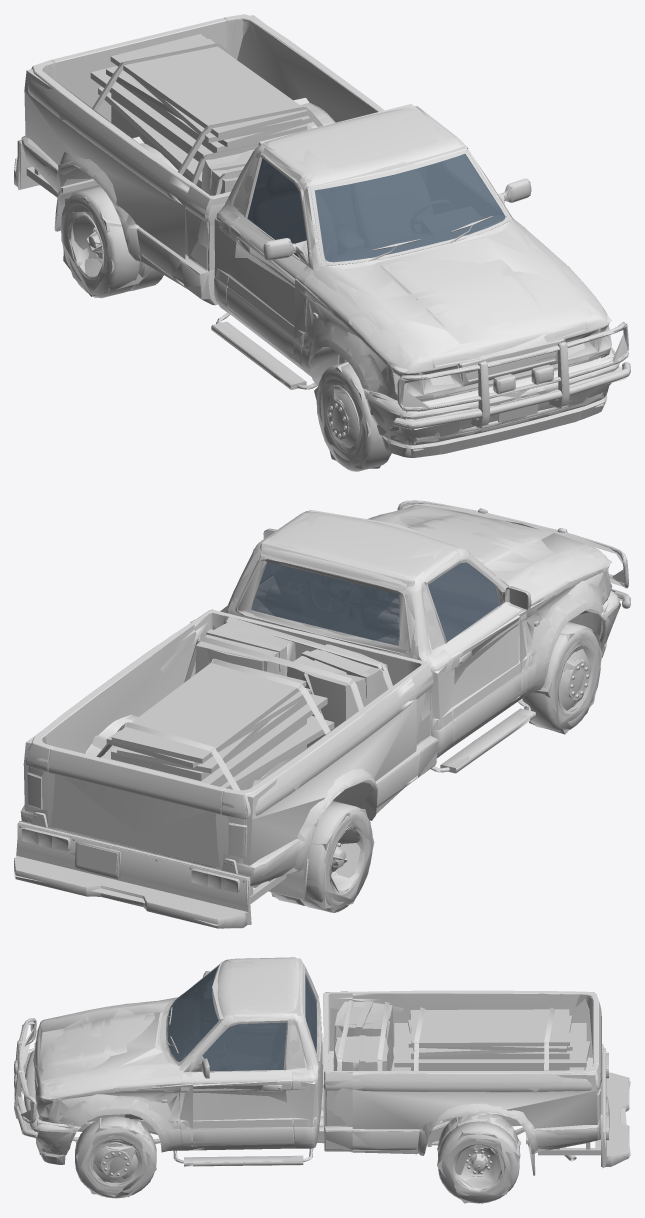
Rendered from pickup.fbx.
3 renders of one model, top to bottom at view 1: azimuth 30°, elevation 25°; view 2: azimuth 150°, elevation 25°; view 3: azimuth 270°, elevation 25°, orthographic. The views are drawn at different scales.
Visible parts, largest first — view 1: Body, LOD1_Body, LOD3_Body, LOD2_Body, Door_FR, LOD3_Door_FR, LOD1_Door_FR, Wheel_RR, Wheel_FR, LOD2_Door_FR, LOD1_Wheel_RR, LOD3_Wheel_RR (+5 smaller); view 2: Body, LOD3_Body, LOD1_Body, LOD2_Body, Door_FR, LOD3_Door_FR, LOD1_Door_FR, Wheel_RR, Wheel_FR, LOD1_Wheel_RR, LOD1_Wheel_FR, LOD3_Wheel_RR (+5 smaller); view 3: Body, LOD3_Body, LOD1_Body, LOD2_Body, LOD3_Door_FL, Door_FL, LOD1_Door_FL, Wheel_RL, Wheel_FL, LOD2_Door_FL, LOD1_Wheel_RL, LOD3_Wheel_RL (+4 smaller).
Part boxes in pixels (<box>): Body: <box>14,14,630,457</box>; LOD1_Body: <box>14,18,630,457</box>; LOD3_Body: <box>14,15,628,451</box>; LOD2_Body: <box>20,18,630,457</box>; Door_FR: <box>181,152,349,336</box>; LOD3_Door_FR: <box>181,151,331,325</box>; LOD1_Door_FR: <box>184,153,348,326</box>; Wheel_RR: <box>61,187,162,298</box>; Wheel_FR: <box>316,363,391,471</box>; LOD2_Door_FR: <box>183,158,347,299</box>; LOD1_Wheel_RR: <box>61,186,163,297</box>; LOD3_Wheel_RR: <box>63,197,153,296</box>; Body: <box>14,500,630,928</box>; LOD3_Body: <box>14,503,627,925</box>; LOD1_Body: <box>14,501,630,928</box>; LOD2_Body: <box>17,500,630,906</box>; Door_FR: <box>376,559,519,777</box>; LOD3_Door_FR: <box>380,562,519,745</box>; LOD1_Door_FR: <box>376,552,519,777</box>; Wheel_RR: <box>271,801,372,912</box>; Wheel_FR: <box>522,622,600,731</box>; LOD1_Wheel_RR: <box>271,802,372,912</box>; LOD1_Wheel_FR: <box>522,624,600,729</box>; LOD3_Wheel_RR: <box>271,809,374,908</box>; Body: <box>14,957,629,1175</box>; LOD3_Body: <box>16,958,630,1168</box>; LOD1_Body: <box>14,957,628,1175</box>; LOD2_Body: <box>14,958,606,1164</box>; LOD3_Door_FL: <box>185,1022,352,1131</box>; Door_FL: <box>184,1014,352,1151</box>; LOD1_Door_FL: <box>185,1014,352,1149</box>; Wheel_RL: <box>438,1113,519,1203</box>; Wheel_FL: <box>75,1116,156,1198</box>; LOD2_Door_FL: <box>185,1018,352,1149</box>; LOD1_Wheel_RL: <box>438,1113,520,1203</box>; LOD3_Wheel_RL: <box>437,1113,520,1203</box>.
Bounding box in the file's own units: 1.87 × 1.55 × 5.01.
